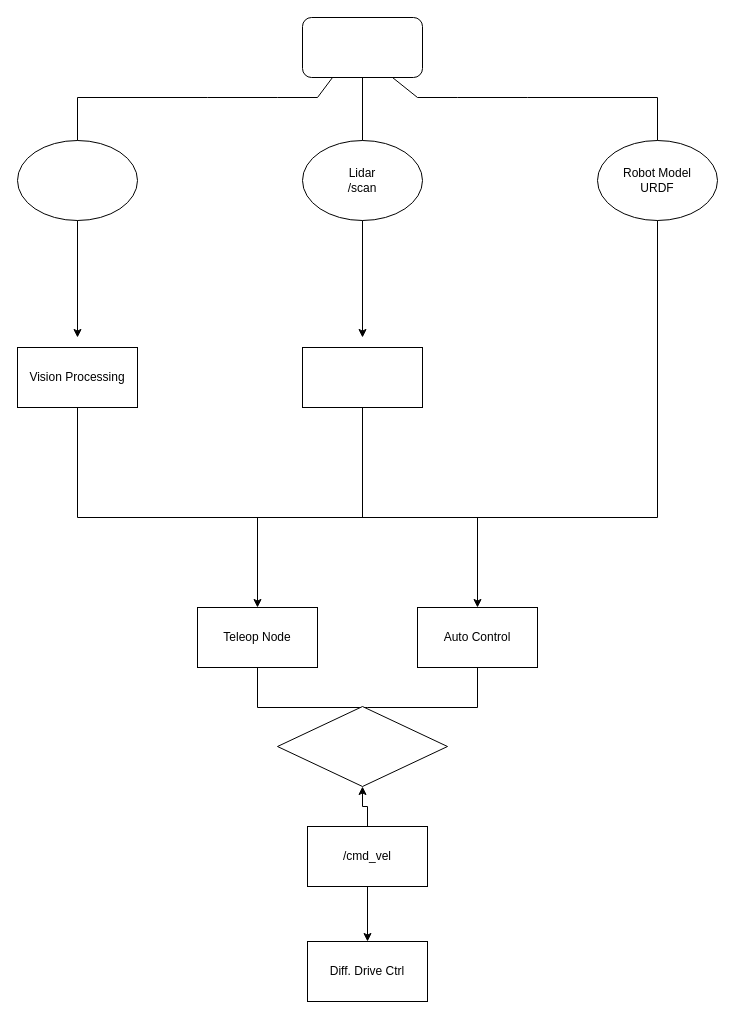
The diagram is 735 pixels wide and 1019 high, and some of its shapes have lost their labels. Here are the shapes that lost their labels. From the top down, the centre of each, then its label:
At (x=362, y=47): "GAZEBO".
At (x=77, y=180): "Camera /camera/image".
At (x=362, y=377): "Obstacle Avoidance FSM Node".
At (x=362, y=746): "Mode Manager (MANUAL / AUTO)".
